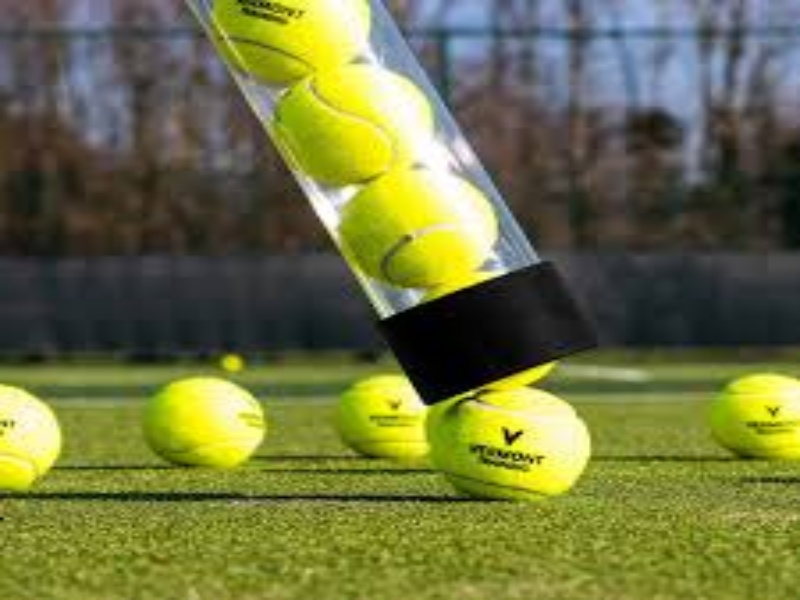tennis ball: (260, 67, 449, 176), (327, 177, 518, 284), (438, 388, 611, 501), (142, 370, 276, 473), (210, 1, 380, 78), (334, 376, 421, 472), (715, 371, 800, 459), (2, 377, 58, 496)
